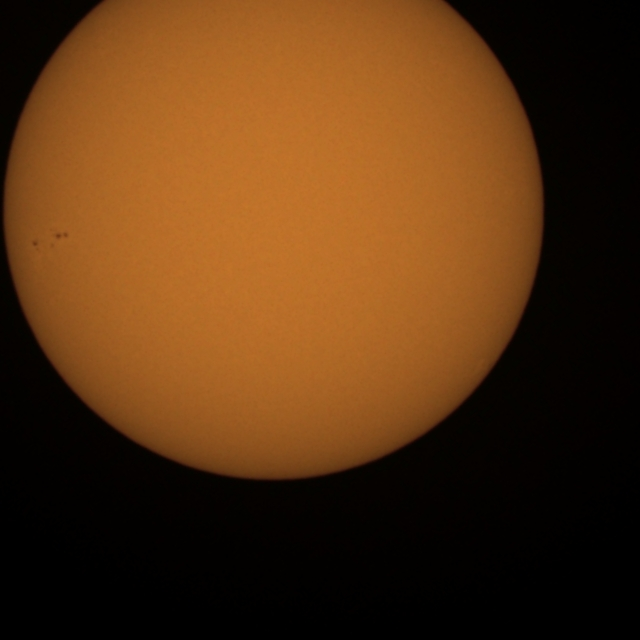sunspot: (32, 229, 70, 253), (31, 238, 41, 252)
